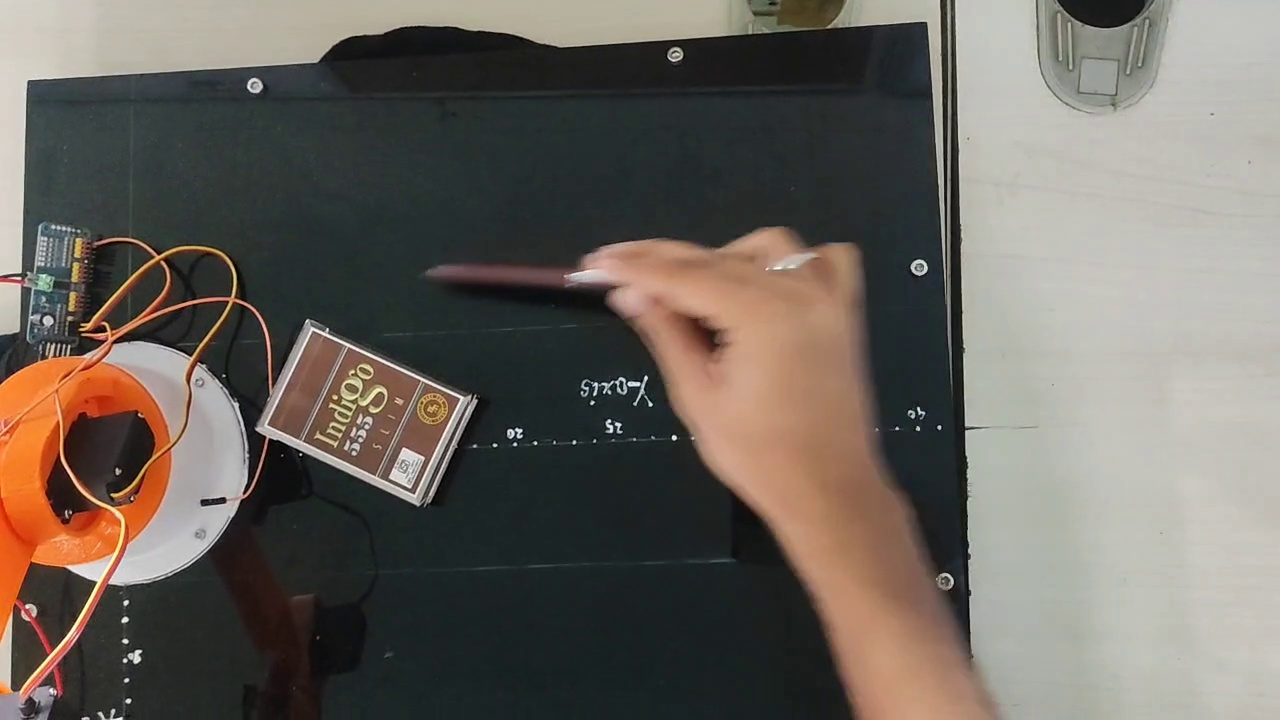BEX: (264, 326, 462, 494)
